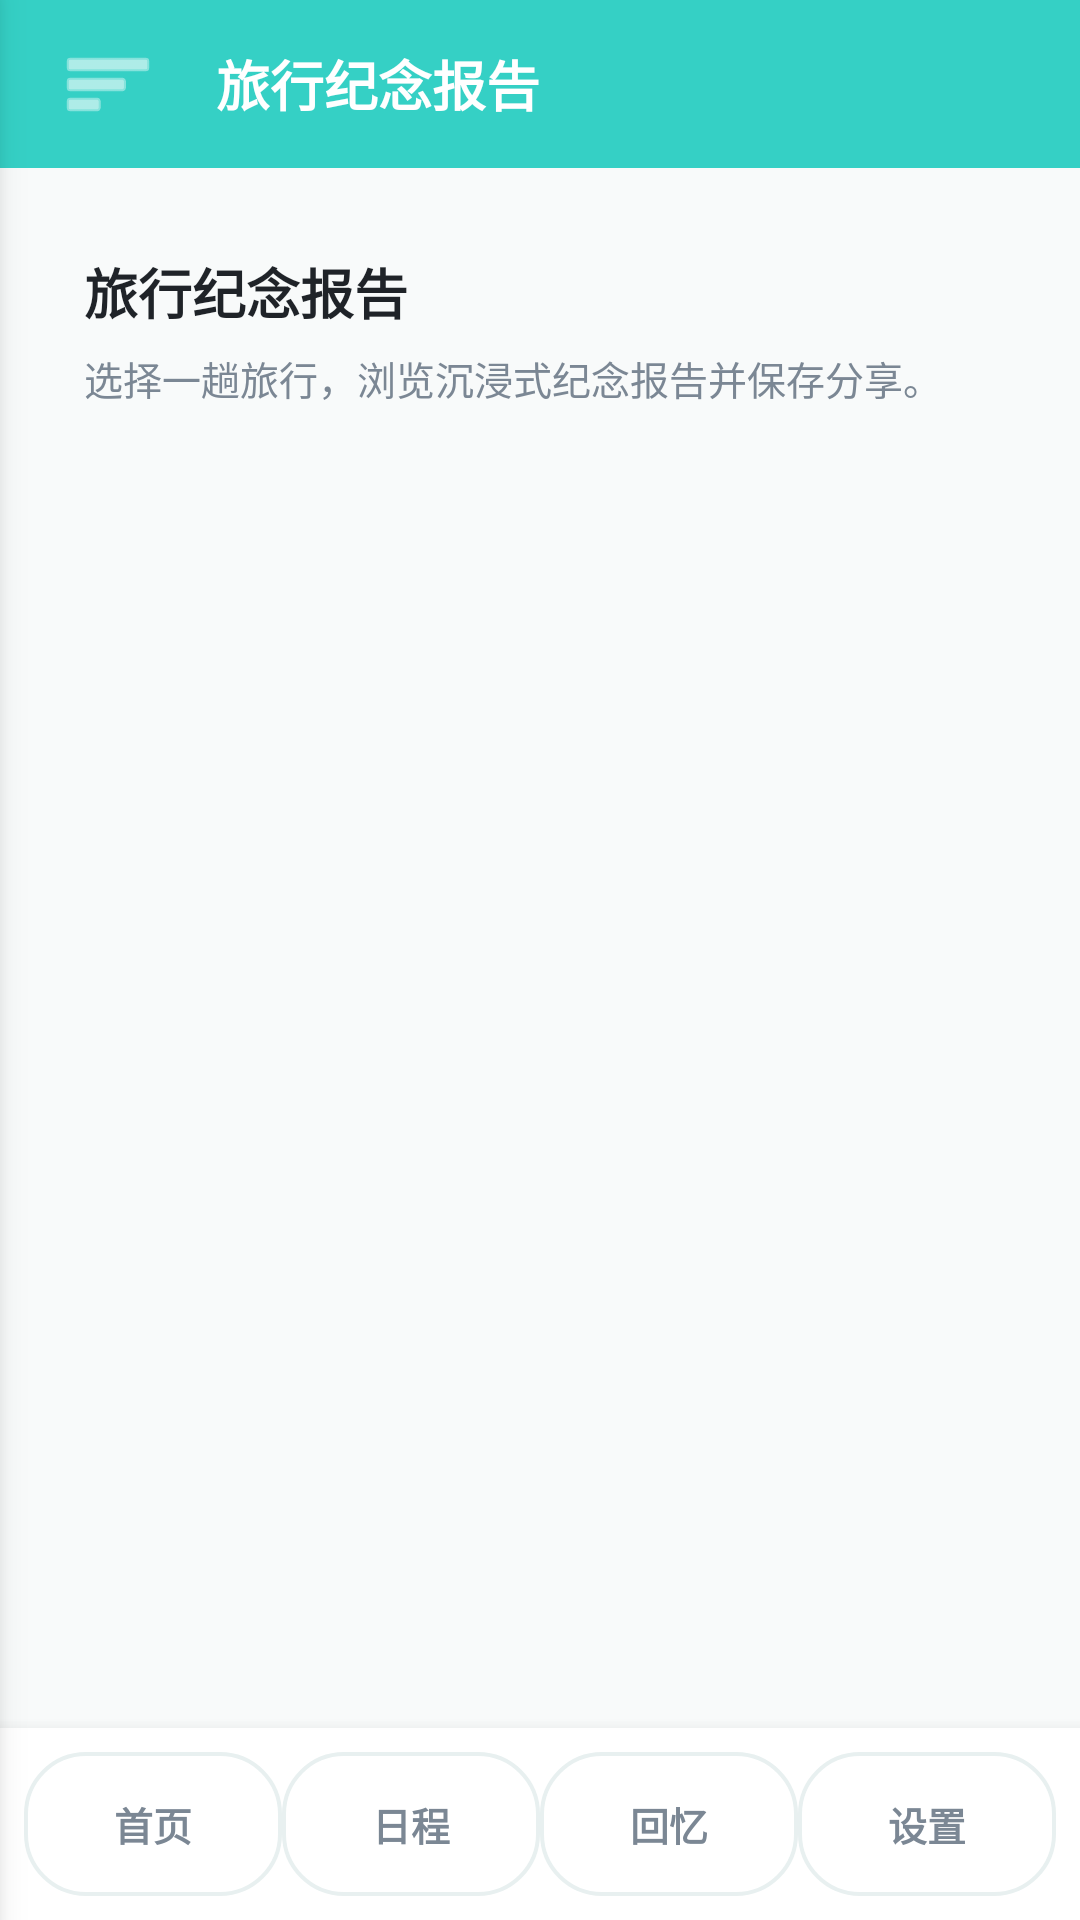

Icons on this 1080*1920 Android screen, each with the point to tap as (x=x, y=y):
打开菜单: (x=108, y=84)
